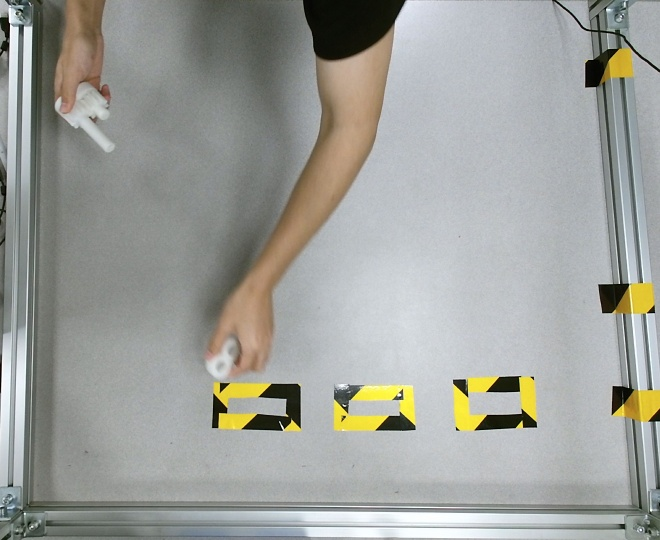stage_3: (54, 81, 115, 153)
